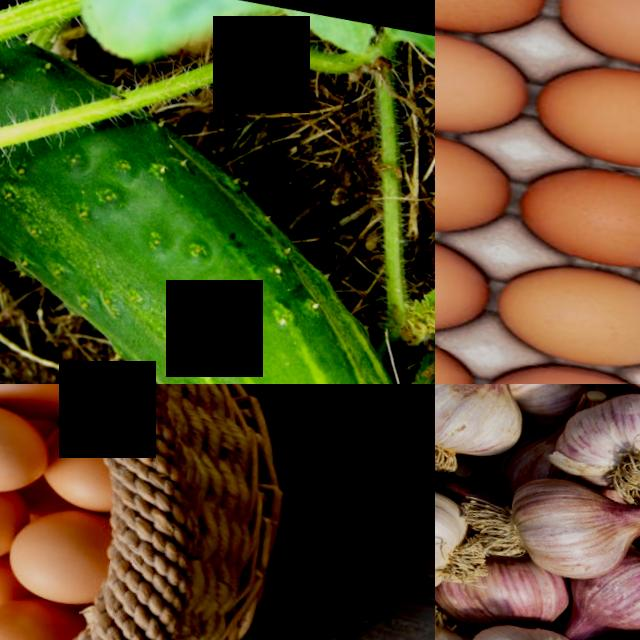cucumber: (0, 113, 435, 384)
egg_: (480, 248, 640, 384), (500, 148, 640, 291), (519, 47, 640, 193), (435, 9, 538, 153), (0, 494, 114, 614), (435, 108, 518, 252), (542, 0, 640, 92), (435, 211, 493, 352), (435, 0, 557, 56), (462, 346, 640, 384), (0, 386, 54, 504), (0, 384, 91, 427), (0, 585, 70, 640)
garlic: (490, 467, 640, 594), (538, 384, 640, 513), (435, 472, 484, 608), (441, 611, 605, 640)
